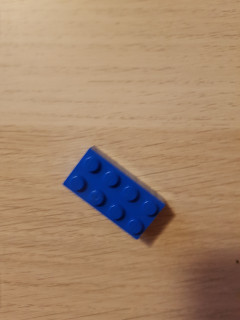2x4 blue: (63, 146, 168, 242)
